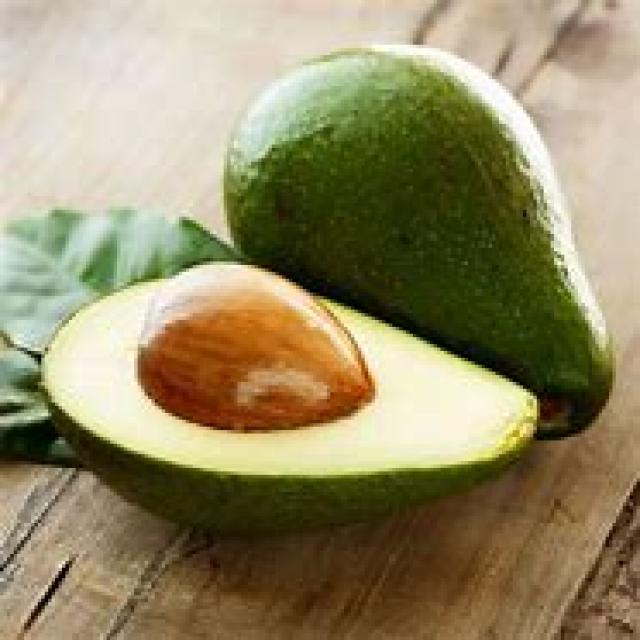Avocado: (42, 262, 557, 542), (198, 42, 604, 268)
